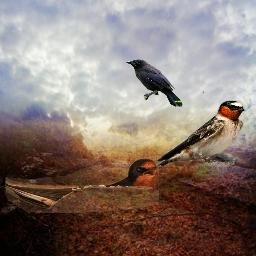Crow: (126, 59, 183, 107)
Swallow: (5, 157, 159, 213), (155, 99, 246, 167)
